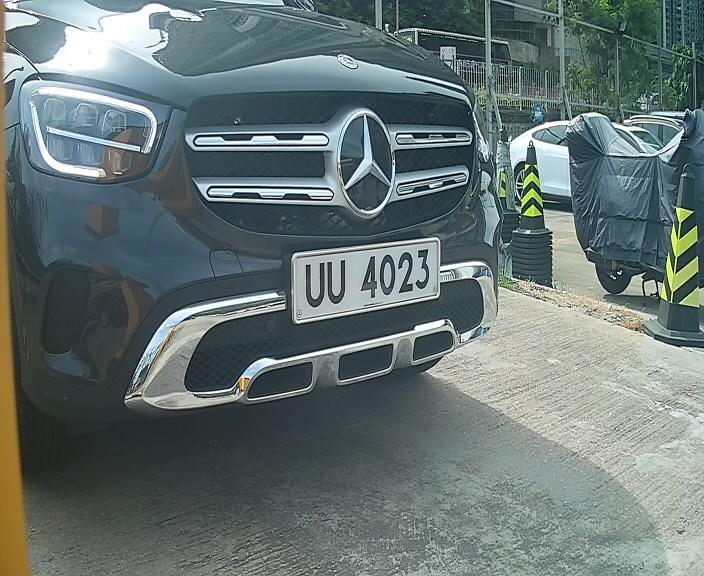License Plate: (283, 232, 447, 332)
